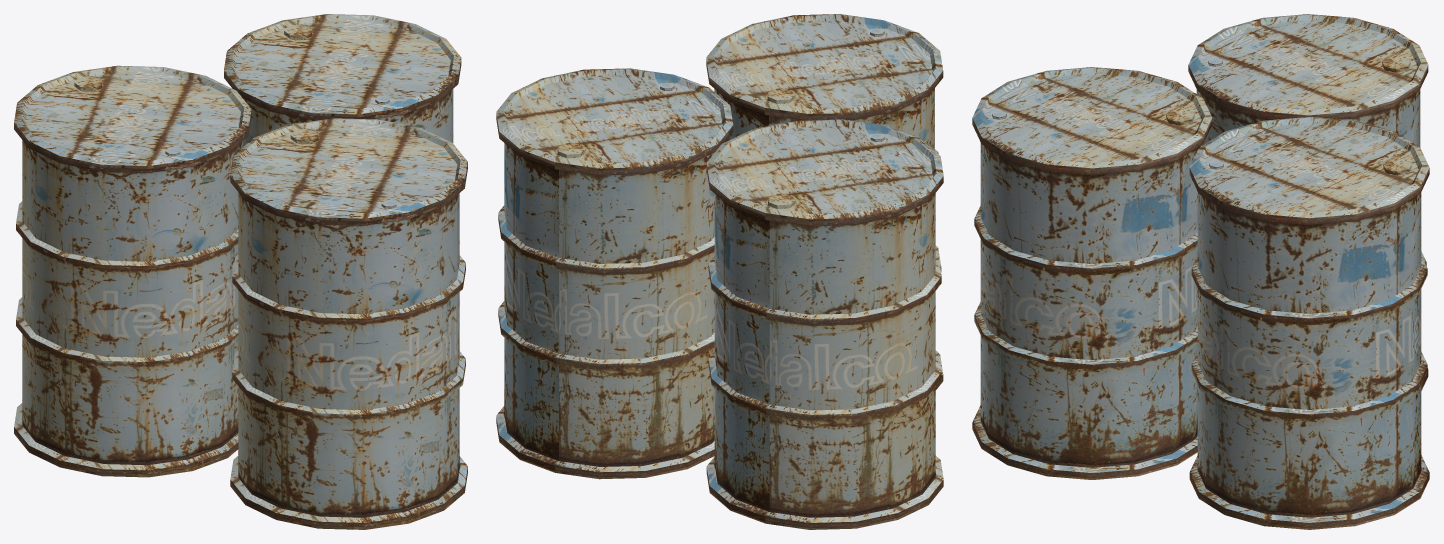
Rendered from drum.fbx.
3 views of the same model, side by side, from view 1: azimuth 30°, elevation 25°; view 2: azimuth 150°, elevation 25°; view 3: azimuth 270°, elevation 25° (orthographic).
Visible parts, largest first — view 1: polySurface2.003; view 2: polySurface2.003; view 3: polySurface2.003.
Part boxes in pixels (<box>): polySurface2.003: <box>14,14,467,529</box>; polySurface2.003: <box>496,14,943,529</box>; polySurface2.003: <box>972,14,1429,529</box>.
Bounding box in the file's own units: 590 × 426 × 558.
